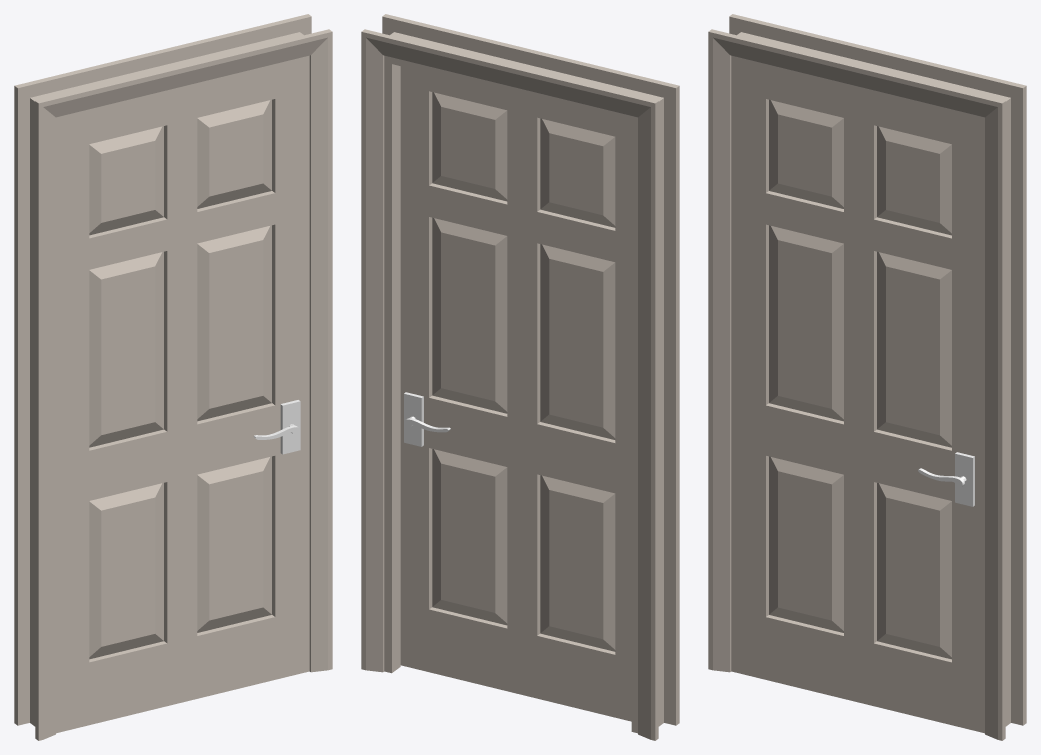
The model's file is door1.fbx.
3 views of the same model, side by side, from view 1: azimuth 30°, elevation 25°; view 2: azimuth 150°, elevation 25°; view 3: azimuth 330°, elevation 25° (orthographic).
Visible parts, largest first — view 1: intdoor.dxf_001; view 2: intdoor.dxf_001; view 3: intdoor.dxf_001.
Part boxes in pixels (bbox=[...]): intdoor.dxf_001: bbox=[14, 14, 332, 740]; intdoor.dxf_001: bbox=[361, 14, 679, 740]; intdoor.dxf_001: bbox=[708, 14, 1026, 740].
Bounding box in the file's own units: 97.97 × 203 × 16.16.
